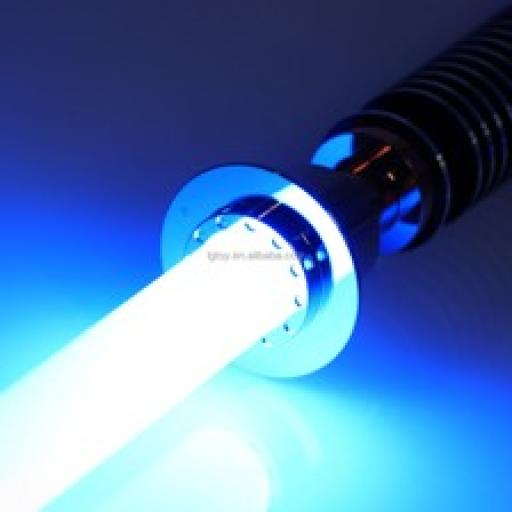lightsaber: (4, 5, 512, 506)
